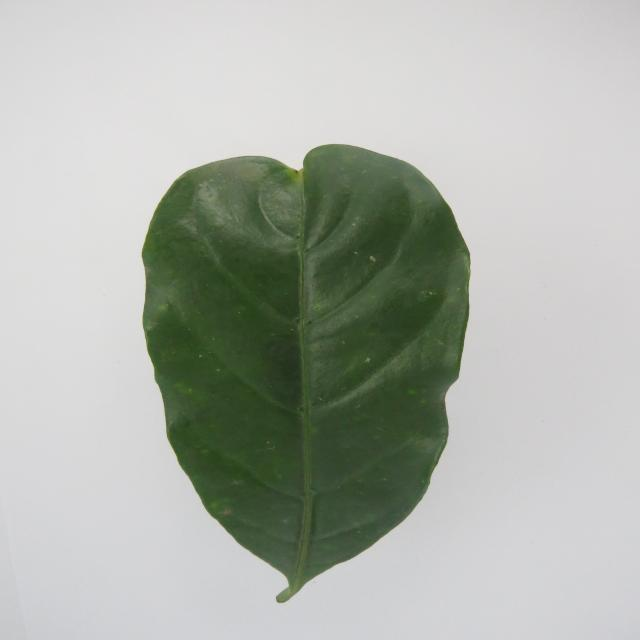DeficienciaNutricional-Boro: (142, 145, 470, 602)
